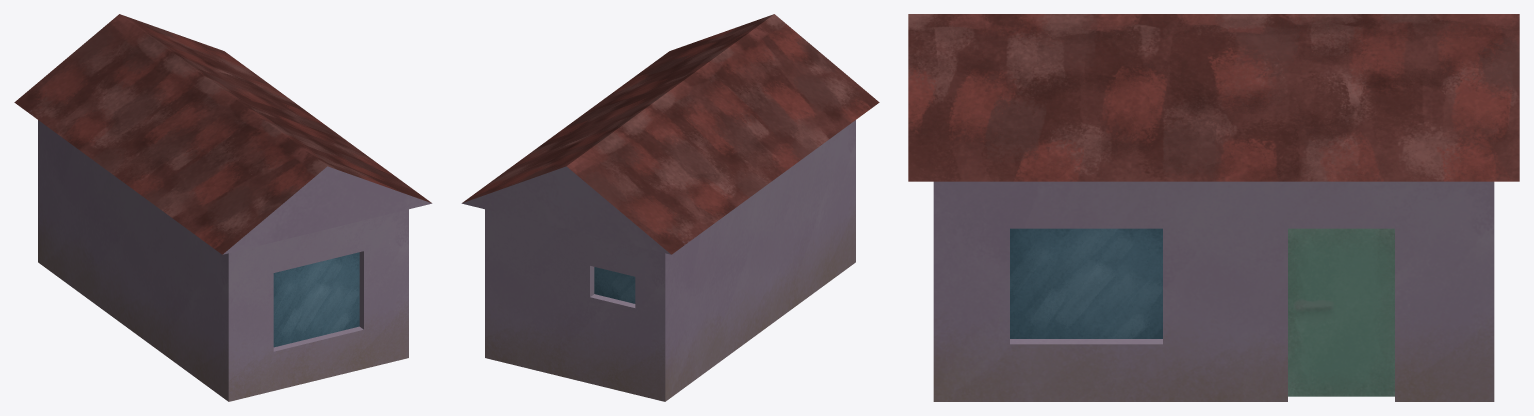
3 renders of one model, left to right at view 1: azimuth 30°, elevation 25°; view 2: azimuth 150°, elevation 25°; view 3: azimuth 270°, elevation 25°, orthographic. The views are drawn at different scales.
Parts seen in each view (by area): view 1: Cube; view 2: Cube; view 3: Cube.
Boxes of the visible parts, x1,y1,x2,y2 form: Cube: (14,14,432,401); Cube: (461,14,879,401); Cube: (908,14,1519,401).
Bounding box in the file's own units: 1.4 × 1.4 × 2.4.
1 material, 1 textured.
